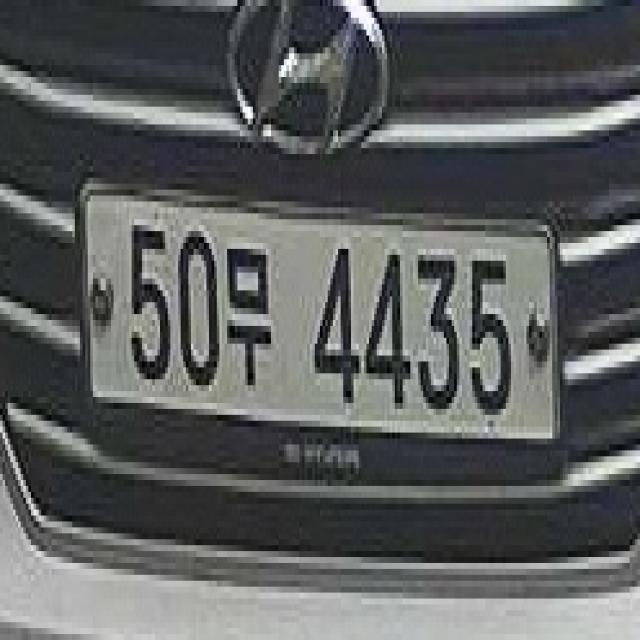0: (178, 225, 221, 394)
3: (416, 247, 460, 418)
4: (308, 237, 362, 417), (364, 241, 412, 409)
5: (120, 220, 172, 388), (468, 247, 514, 422)
license_plate: (69, 184, 565, 464)
mu: (226, 235, 274, 398)
